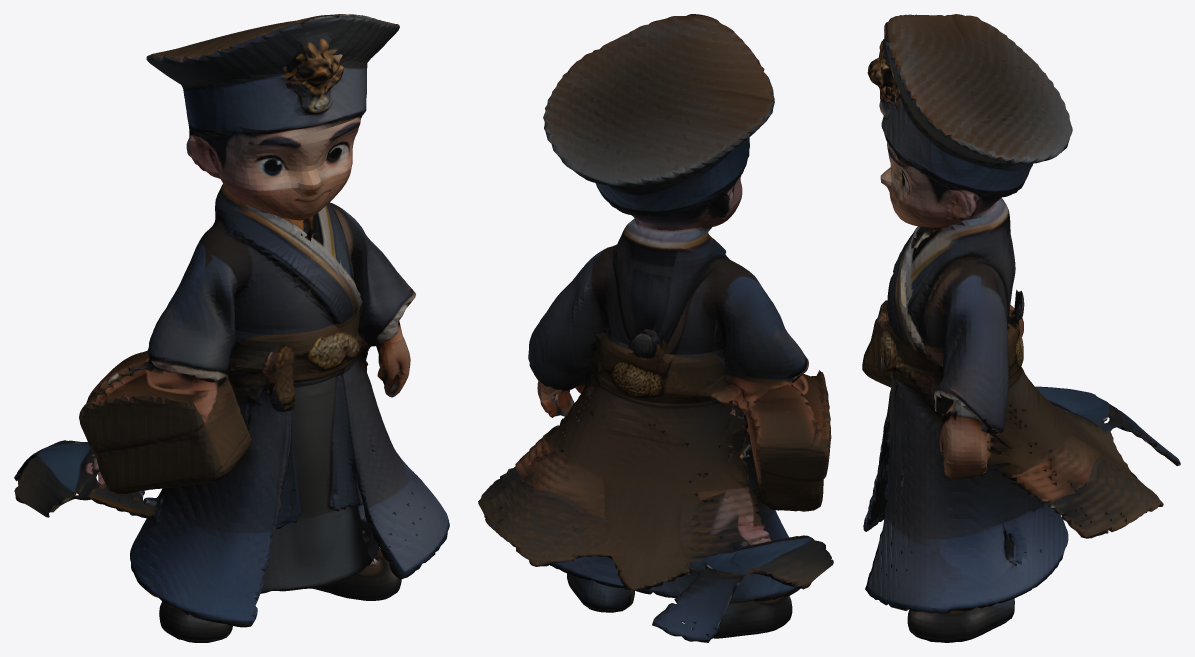
File: body.glb
3 renders of one model, left to right at view 1: azimuth 30°, elevation 25°; view 2: azimuth 150°, elevation 25°; view 3: azimuth 270°, elevation 25°, orthographic. The views are drawn at different scales.
Visible parts, largest first — view 1: geometry_0; view 2: geometry_0; view 3: geometry_0.
Part boxes in pixels (x1=…): geometry_0: x1=14, y1=14, x2=449, y2=642; geometry_0: x1=478, y1=14, x2=833, y2=642; geometry_0: x1=862, y1=14, x2=1180, y2=642.
Bounding box in the file's own units: 1.22 × 1.96 × 0.9944.
1 material, 1 textured.
